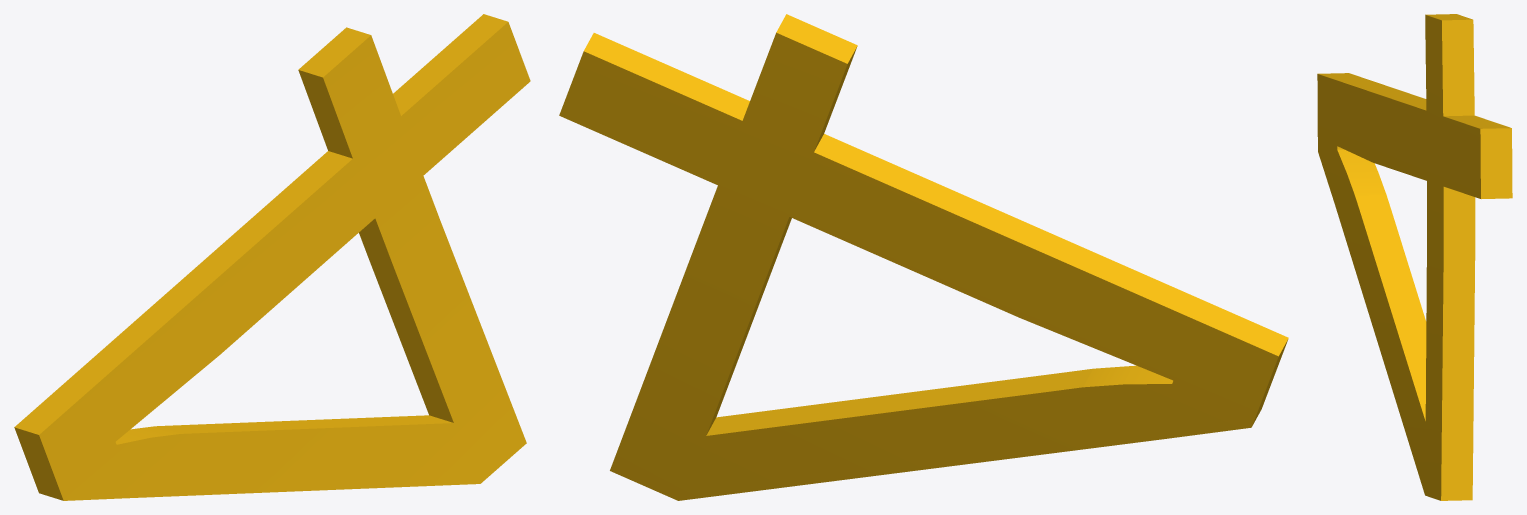
File: Number_4.gltf
The picture shows the model from 3 angles, left to right: view 1: azimuth 30°, elevation 25°; view 2: azimuth 150°, elevation 25°; view 3: azimuth 270°, elevation 25°; orthographic projection. The views are drawn at different scales.
Parts seen in each view (by area): view 1: Sub_2_Cell_2_3_Number_4; view 2: Sub_2_Cell_2_3_Number_4; view 3: Sub_2_Cell_2_3_Number_4.
Boxes of the visible parts, x1,y1,x2,y2 form: Sub_2_Cell_2_3_Number_4: [14, 14, 530, 500]; Sub_2_Cell_2_3_Number_4: [559, 14, 1288, 500]; Sub_2_Cell_2_3_Number_4: [1317, 14, 1512, 500].
Bounding box in the file's own units: 0.0243 × 0.0185 × 0.00757.
